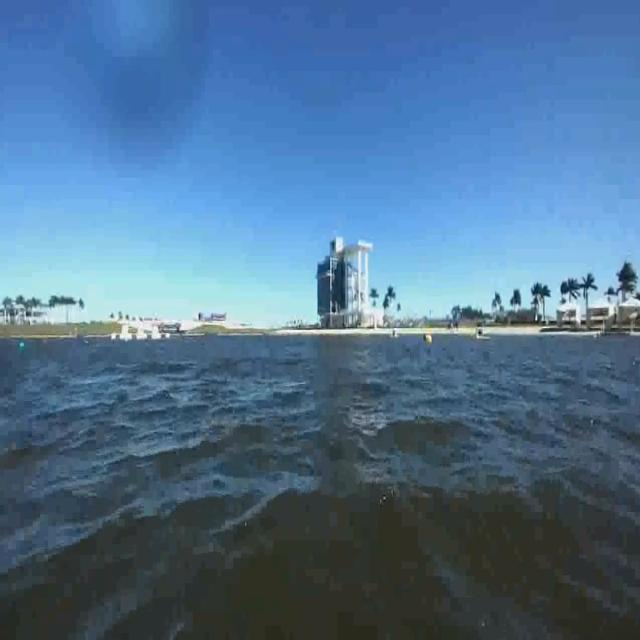green-buoy: (18, 343, 25, 352)
yellow-buoy: (427, 336, 432, 346)
